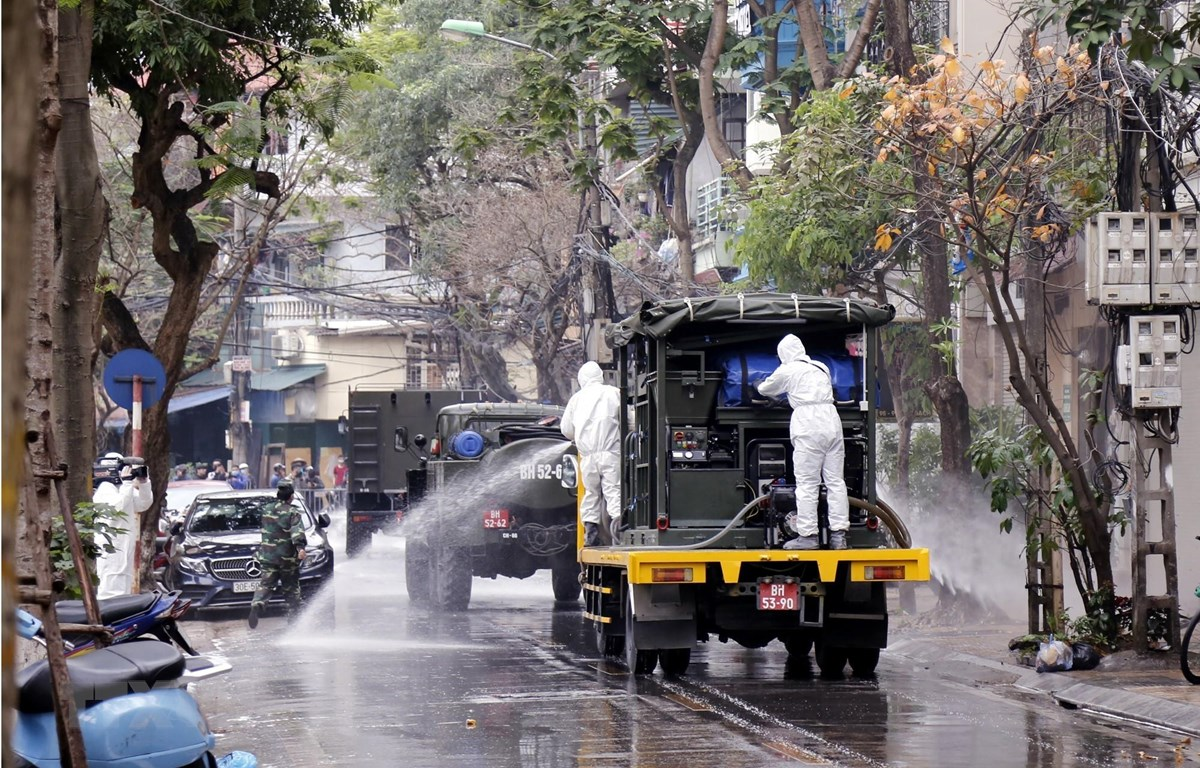plate: (749, 578, 802, 617), (476, 505, 511, 528), (229, 576, 271, 595)
